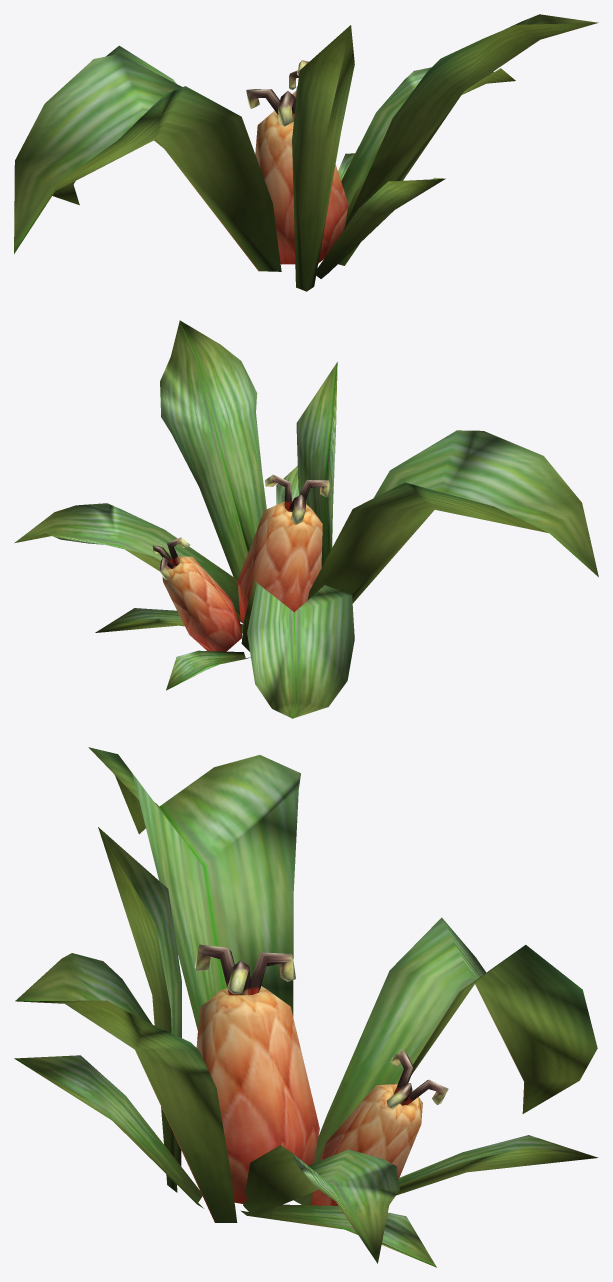
File: n_hottree02b.glb
The picture shows the model from 3 angles, top to bottom: view 1: azimuth 30°, elevation 25°; view 2: azimuth 150°, elevation 25°; view 3: azimuth 270°, elevation 25°; orthographic projection. The views are drawn at different scales.
Parts seen in each view (by area): view 1: n_hottree02b; view 2: n_hottree02b; view 3: n_hottree02b.
Boxes of the visible parts, left/top/right/bottom form: n_hottree02b: left=14, top=14, right=598, bottom=291; n_hottree02b: left=15, top=320, right=598, bottom=718; n_hottree02b: left=14, top=747, right=598, bottom=1267.
Size of the model in its own units: 4.35 by 2.03 by 2.83.
1 material, 1 textured.
